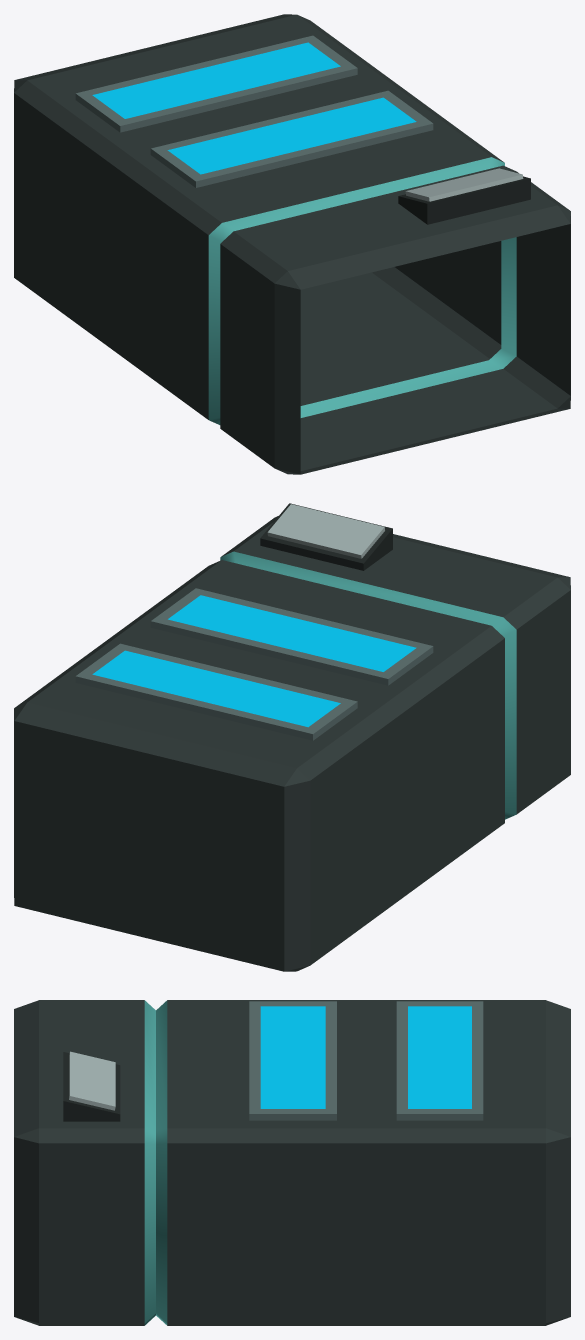
The model's file is Vending Machine 01.FBX.
3 views of the same model, one above another, from view 1: azimuth 30°, elevation 25°; view 2: azimuth 150°, elevation 25°; view 3: azimuth 270°, elevation 25° (orthographic). The views are drawn at different scales.
Parts seen in each view (by area): view 1: Vending Machine 01; view 2: Vending Machine 01; view 3: Vending Machine 01.
Part boxes in pixels (x1,y1,x2,y2): Vending Machine 01: (14,14,570,474); Vending Machine 01: (14,503,570,971); Vending Machine 01: (14,1000,570,1325).
Bounding box in the file's own units: 143 × 104 × 239.
1 material, 1 textured.
